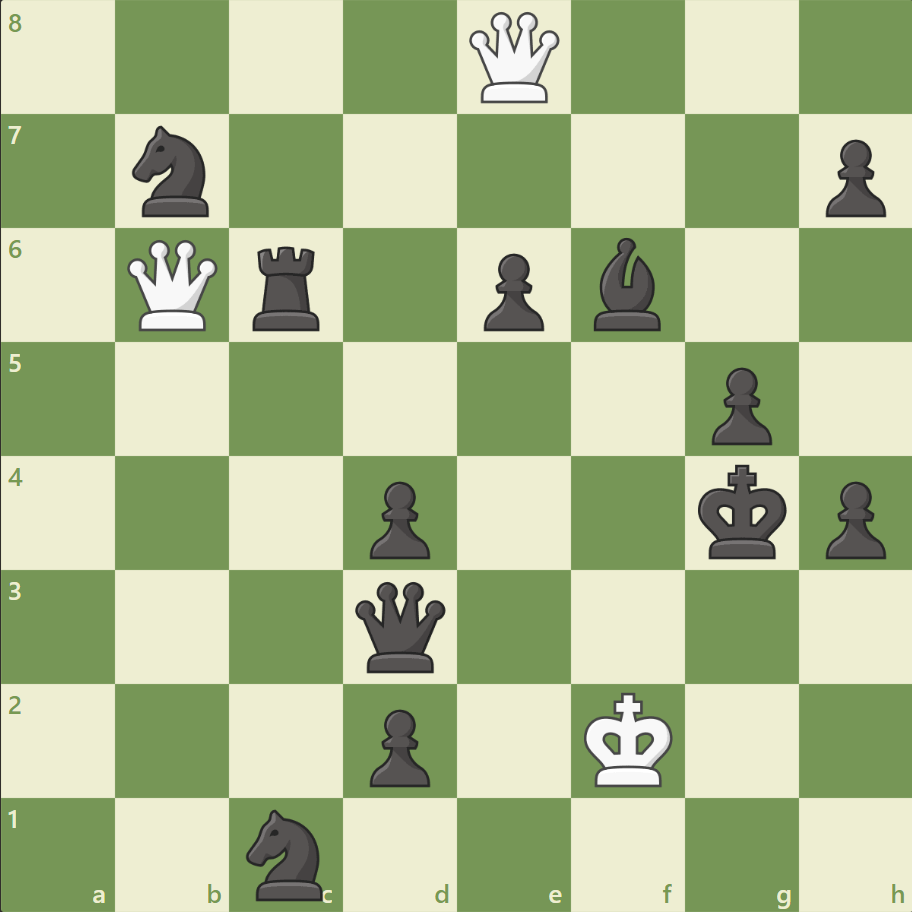K: (579, 685, 679, 793)
Q: (464, 9, 563, 108), (124, 236, 223, 335)
b: (585, 233, 669, 336)
k: (692, 458, 792, 566)
n: (124, 121, 222, 223), (238, 802, 335, 904)
p: (474, 246, 549, 337), (701, 359, 776, 450), (815, 132, 889, 223), (361, 473, 435, 564), (815, 473, 889, 564), (361, 700, 435, 791)
q: (351, 576, 450, 676)
r: (246, 239, 329, 336)
